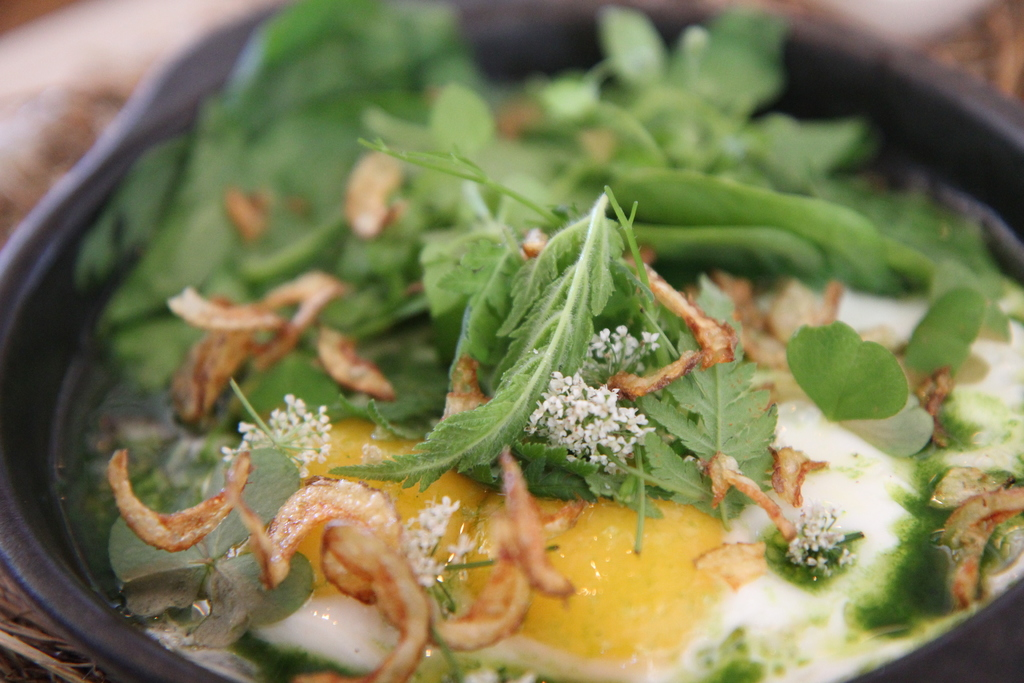salad: (0, 15, 1018, 683)
